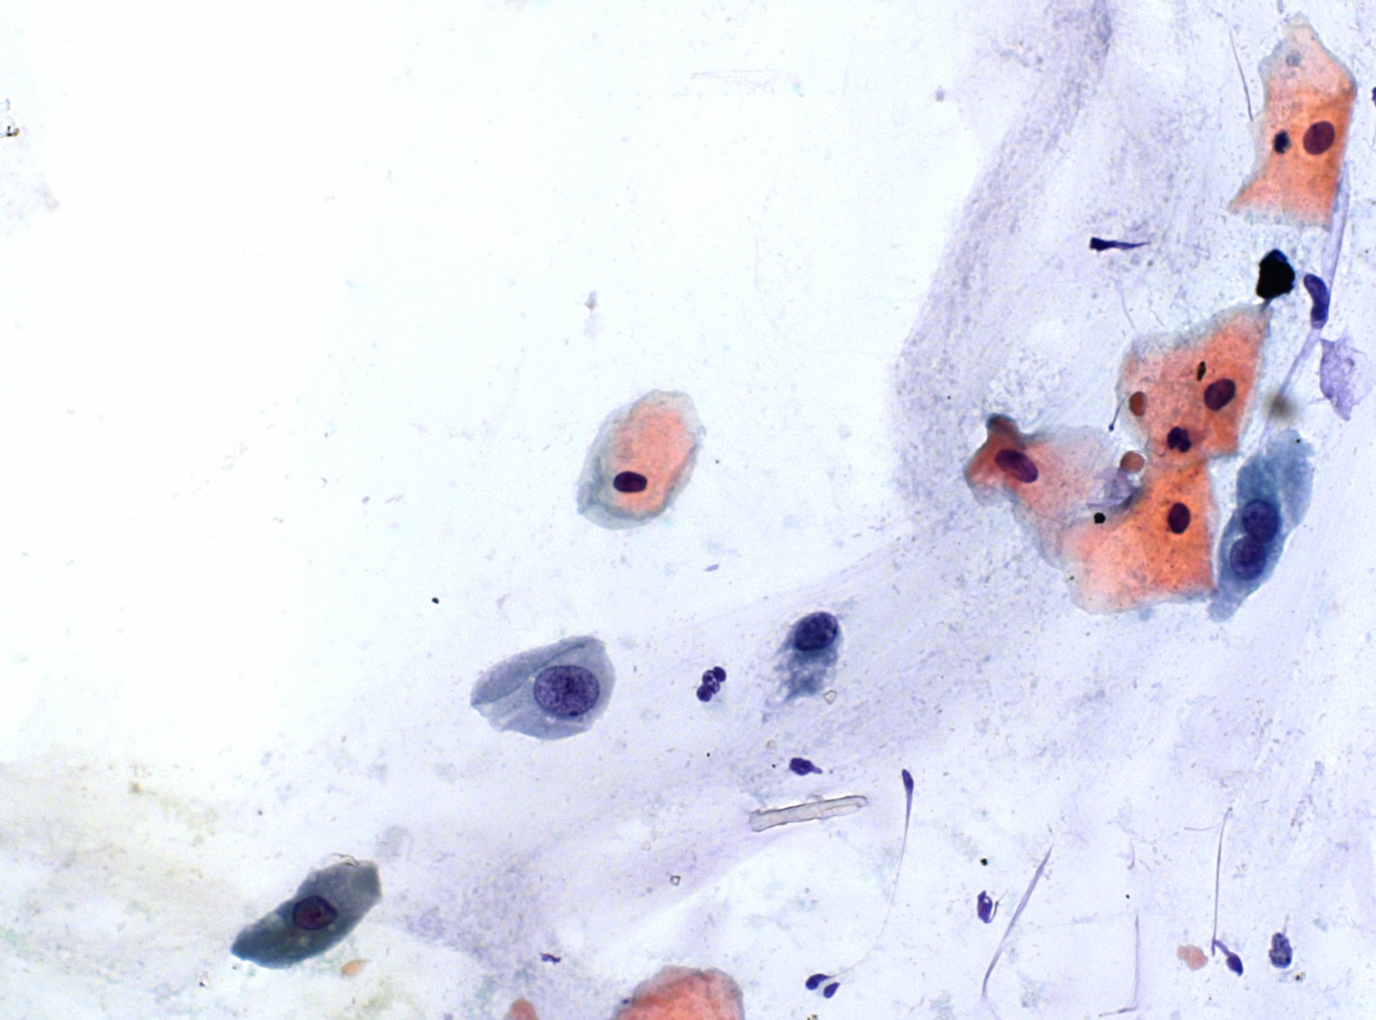Abnormal_Nucleus: (532, 664, 600, 720)
Normal_Nucleus: (792, 611, 839, 652), (1241, 497, 1281, 544), (291, 892, 341, 930), (992, 447, 1040, 485), (1230, 540, 1267, 584), (1202, 376, 1237, 414), (1302, 119, 1335, 157), (609, 467, 650, 496), (1167, 500, 1192, 534)
